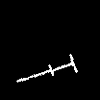double_crochet: (17, 54, 77, 81)
